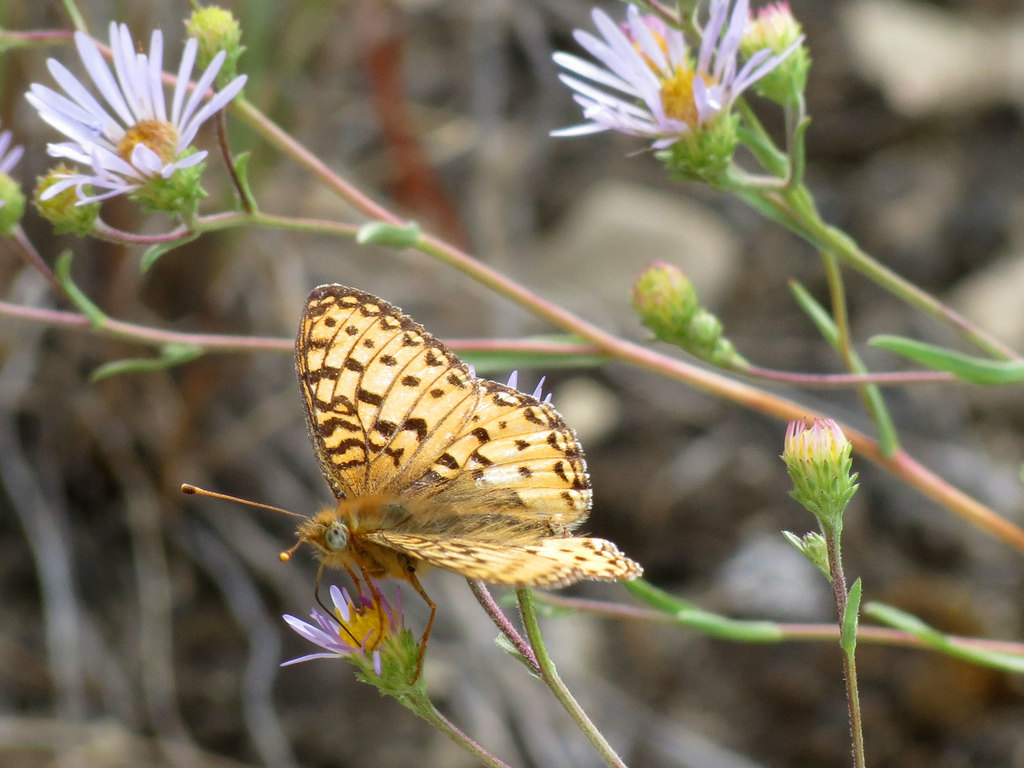Butterfly: (275, 270, 640, 659)
